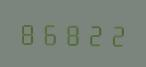eight: (62, 19, 83, 47), (18, 19, 39, 46)
six: (40, 19, 61, 46)
two: (84, 20, 105, 47), (106, 20, 127, 47)
